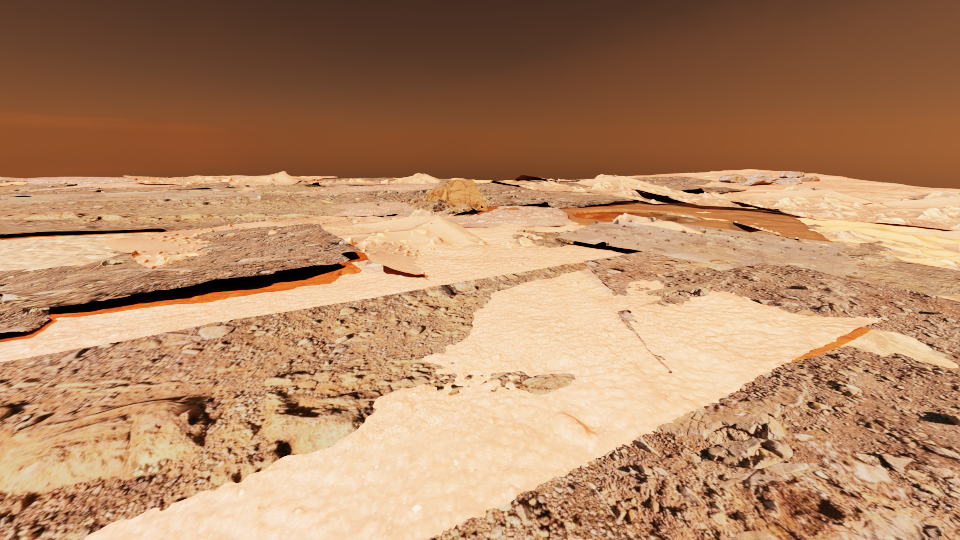bedrock: (516, 219, 959, 539), (0, 361, 462, 521), (0, 223, 361, 332), (318, 180, 634, 223), (0, 205, 324, 224), (0, 187, 316, 203), (488, 371, 575, 394), (633, 176, 743, 192), (17, 178, 134, 188), (297, 178, 349, 186), (174, 182, 236, 187), (553, 181, 592, 187), (561, 192, 619, 196), (0, 206, 60, 209), (361, 178, 396, 181), (511, 234, 524, 238), (464, 374, 472, 379)
hole: (572, 210, 701, 222)
rocks: (427, 179, 487, 210), (719, 171, 819, 185)
sand: (85, 269, 957, 539), (0, 222, 642, 361), (627, 169, 959, 202), (793, 215, 959, 261), (0, 228, 166, 270), (35, 181, 173, 189), (667, 203, 770, 211), (896, 256, 946, 264), (0, 182, 38, 190), (830, 238, 867, 242), (212, 175, 258, 178), (274, 179, 301, 184), (293, 176, 333, 179), (938, 296, 959, 301), (233, 182, 271, 184), (0, 177, 25, 180), (473, 180, 490, 182)
soil: (0, 251, 681, 384), (0, 183, 438, 268), (502, 177, 959, 257), (428, 463, 672, 539), (786, 433, 910, 500), (0, 510, 148, 539), (696, 389, 756, 417), (375, 238, 445, 259), (890, 261, 959, 279), (324, 251, 375, 275), (617, 309, 645, 343), (939, 498, 959, 539), (136, 176, 217, 184), (646, 348, 671, 372), (488, 204, 550, 213), (642, 295, 690, 305), (446, 218, 503, 226), (895, 241, 930, 248), (21, 177, 129, 179), (622, 214, 646, 221), (67, 196, 97, 199), (0, 180, 30, 183), (384, 235, 396, 242), (908, 194, 928, 198), (22, 183, 61, 185), (940, 192, 959, 196), (302, 179, 321, 183), (135, 178, 149, 183), (635, 286, 650, 290), (417, 210, 429, 215), (0, 189, 18, 192), (273, 270, 286, 274)
